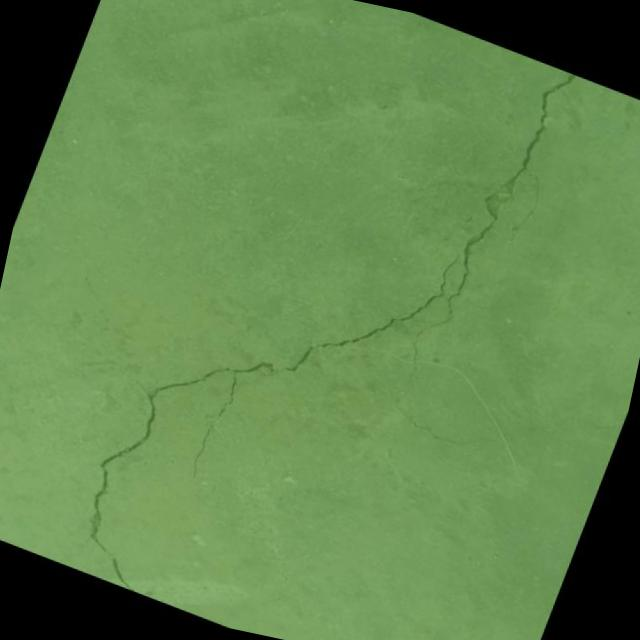crack: (24, 298, 284, 619), (402, 44, 580, 394), (277, 205, 463, 419), (386, 402, 499, 460), (507, 171, 548, 246), (568, 412, 614, 434), (528, 414, 560, 438), (193, 487, 205, 502)
